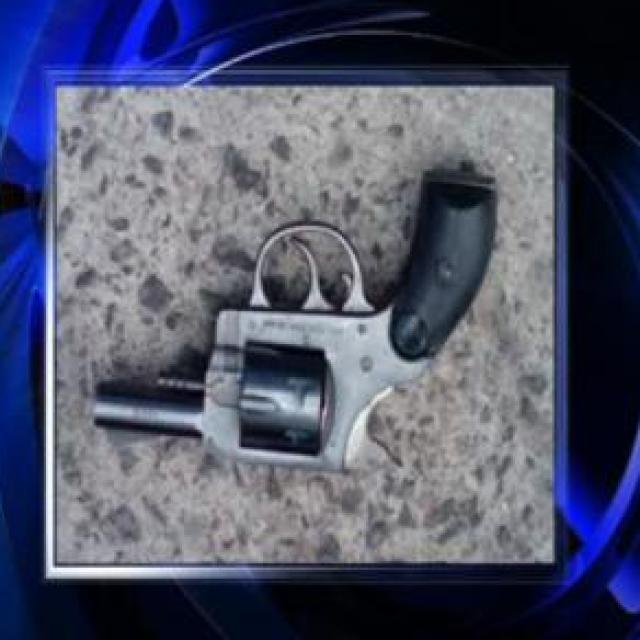pistol: (90, 174, 501, 478)
